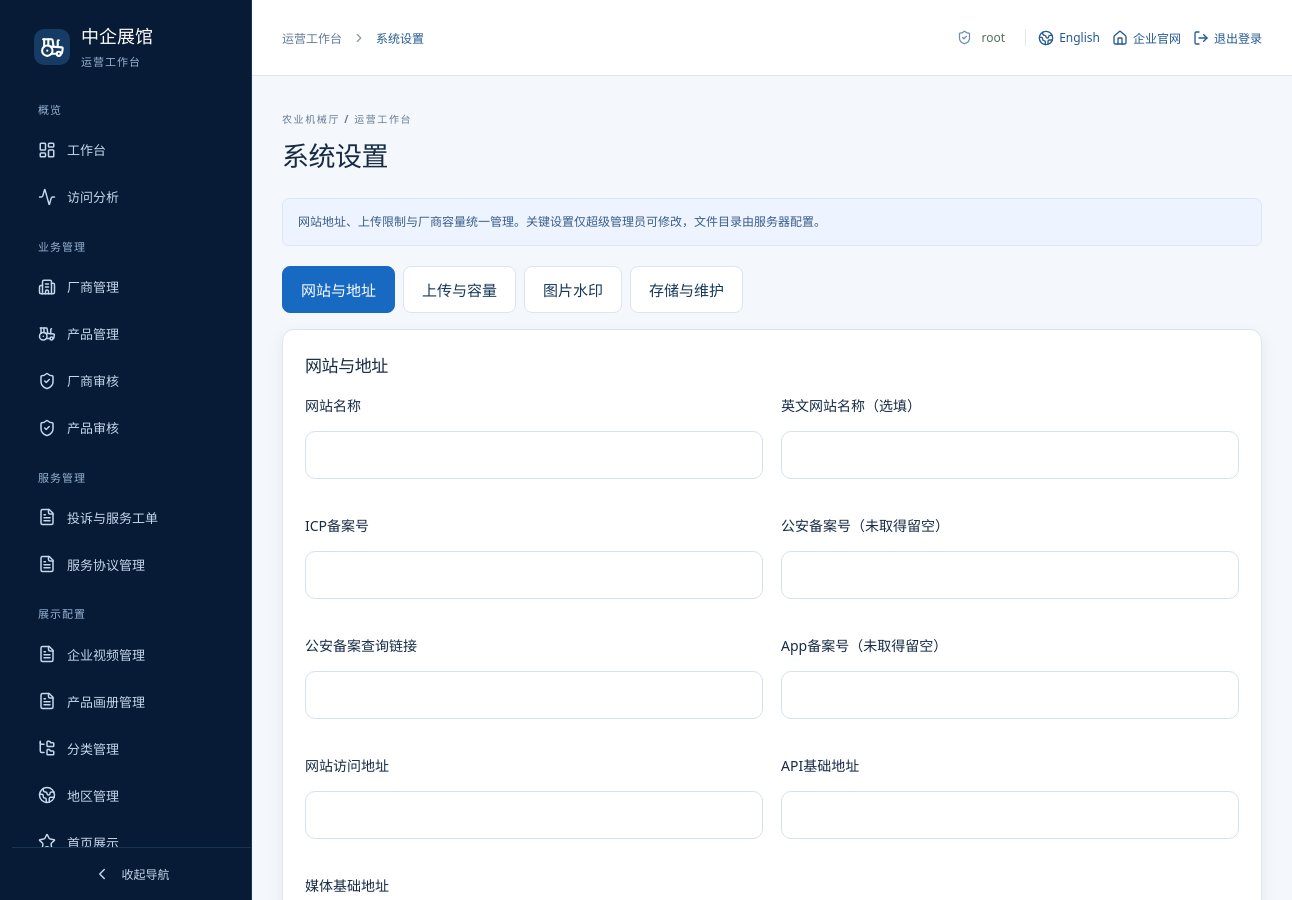
keeps disk paths read-only and shows separate storage and backup links
The width and height of the screenshot is (1292, 900).
Click the tab "存储与维护" at (686, 289), box [630,266,743,313]
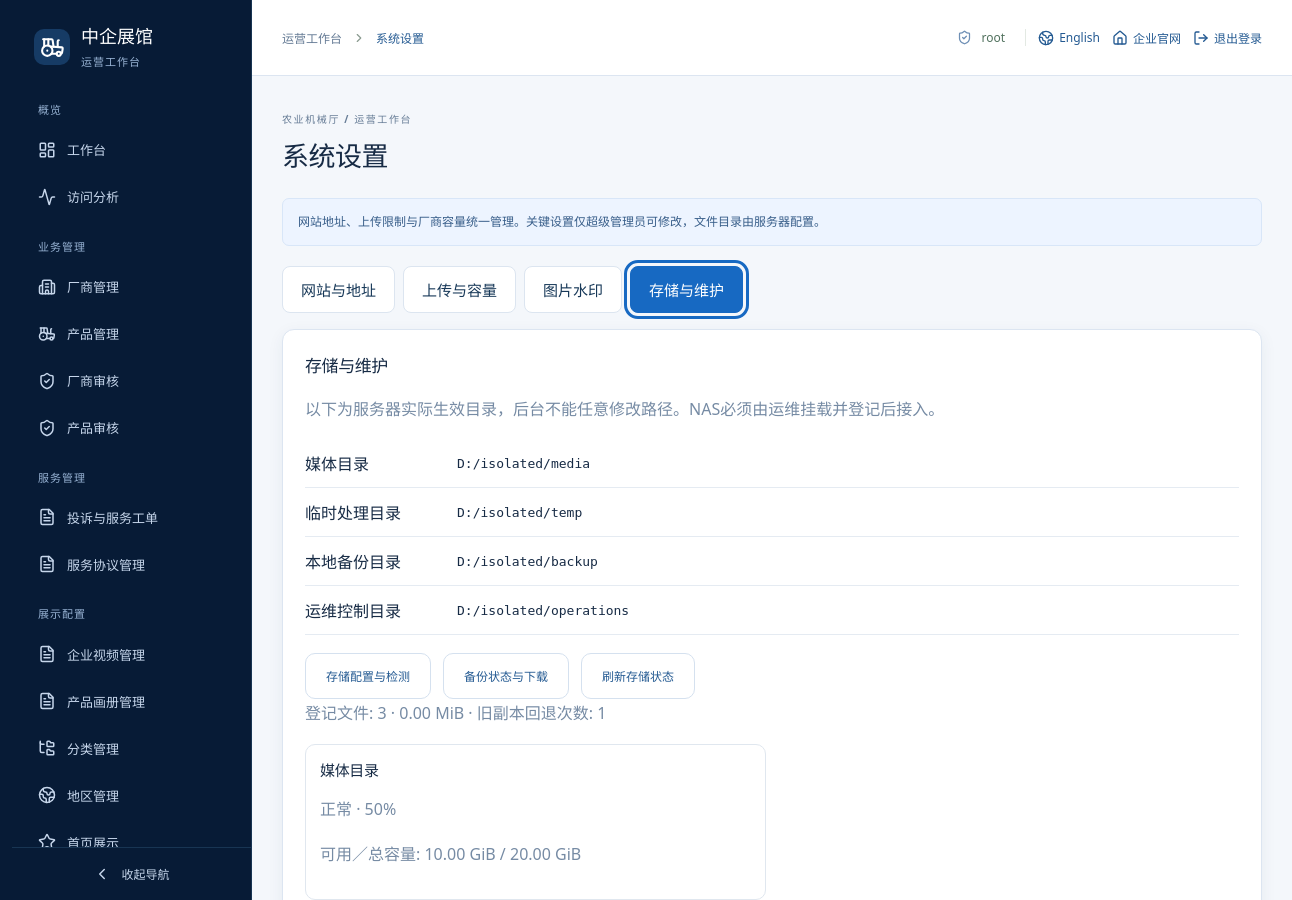
Now the text "D:/isolated/media" is shown, box [457,456,590,471]
